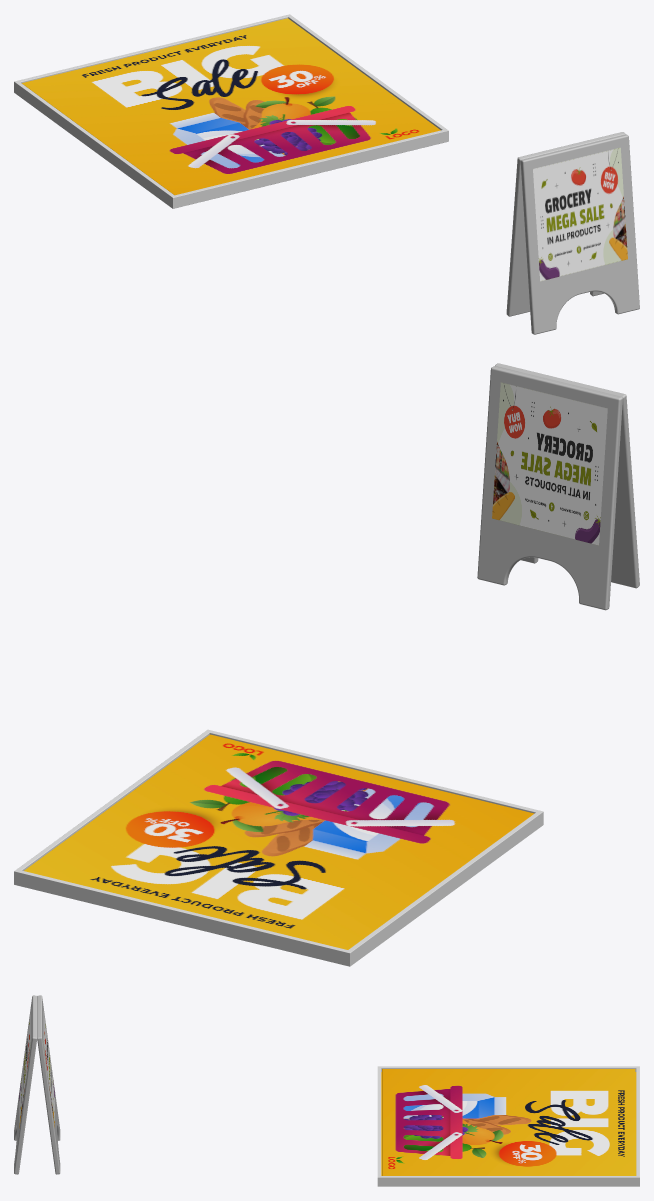
Rendered from Posters.fbx.
The picture shows the model from 3 angles, top to bottom: view 1: azimuth 30°, elevation 25°; view 2: azimuth 150°, elevation 25°; view 3: azimuth 270°, elevation 25°; orthographic projection. The views are drawn at different scales.
Parts seen in each view (by area): view 1: Framed modern painting 2, Wood Poster Diplay Stand; view 2: Framed modern painting 2, Wood Poster Diplay Stand; view 3: Framed modern painting 2, Wood Poster Diplay Stand.
Part boxes in pixels (x1=…): Framed modern painting 2: x1=14, y1=14, x2=448, y2=208; Wood Poster Diplay Stand: x1=506, y1=132, x2=639, y2=334; Framed modern painting 2: x1=14, y1=729, x2=543, y2=966; Wood Poster Diplay Stand: x1=477, y1=363, x2=639, y2=610; Framed modern painting 2: x1=377, y1=1066, x2=639, y2=1186; Wood Poster Diplay Stand: x1=14, y1=995, x2=60, y2=1174.
Bounding box in the file's own units: 104 × 59.74 × 247.
